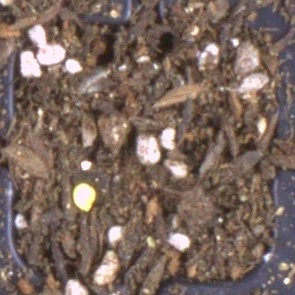chilli seed: (72, 183, 96, 213)
